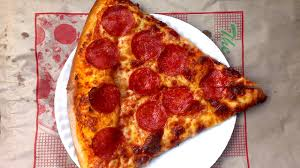pizza: (52, 5, 261, 162)
